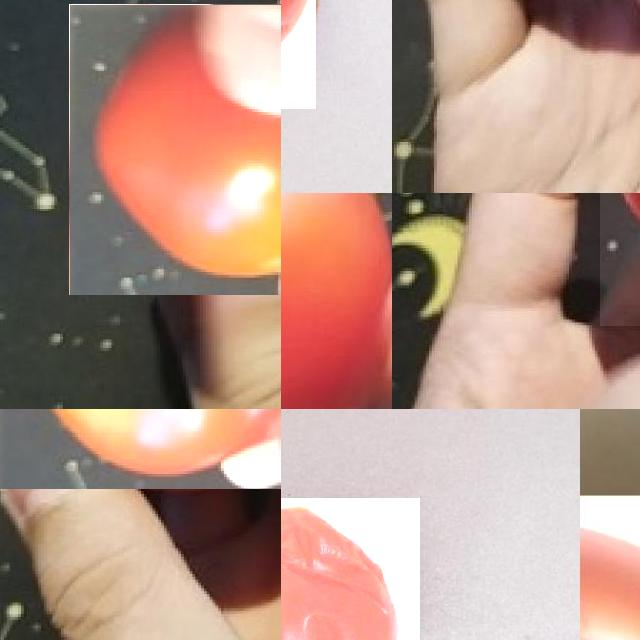0: (69, 4, 281, 295), (0, 409, 281, 489)
Fresh Tomato: (281, 193, 392, 409)
Rotten Tomato: (281, 498, 420, 640)
